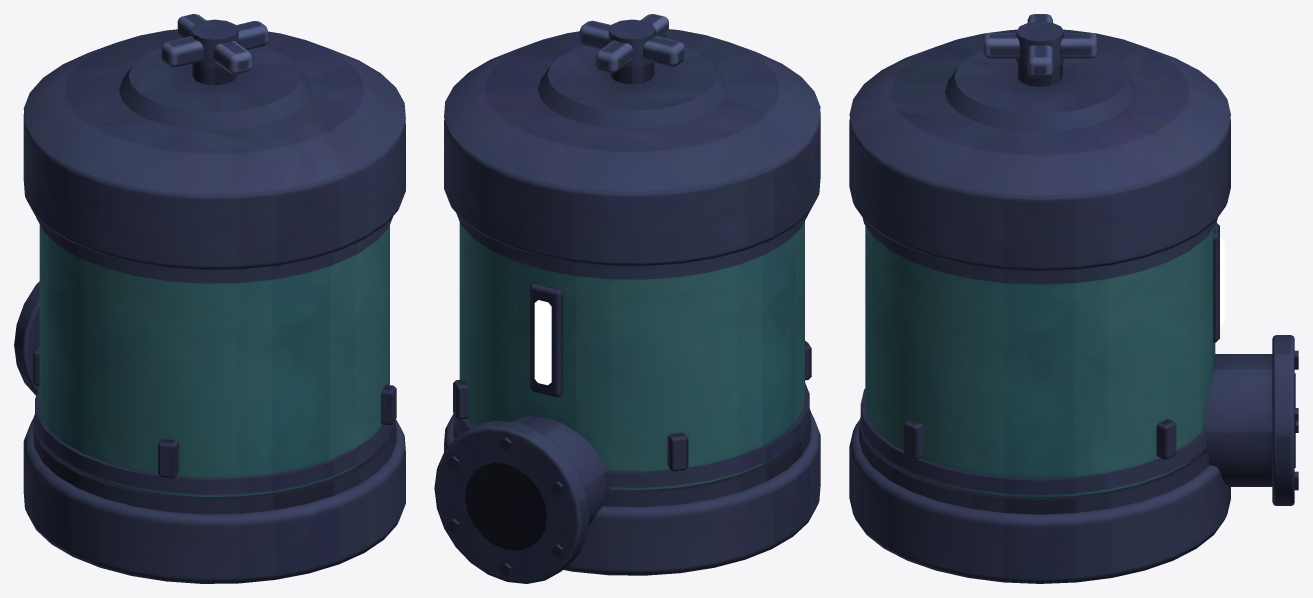
File: bg_claude_service_s02_tank.glb
3 renders of one model, left to right at view 1: azimuth 30°, elevation 25°; view 2: azimuth 150°, elevation 25°; view 3: azimuth 270°, elevation 25°, orthographic.
Parts seen in each view (by area): view 1: tank; view 2: tank; view 3: tank.
Part boxes in pixels (box(x1,y1,x2,y2)): tank: box(14, 14, 405, 583); tank: box(434, 14, 820, 583); tank: box(849, 14, 1298, 583).
Bounding box in the file's own units: 1.2 × 1.65 × 1.41.
Materials: 1 (1 with a texture image).
